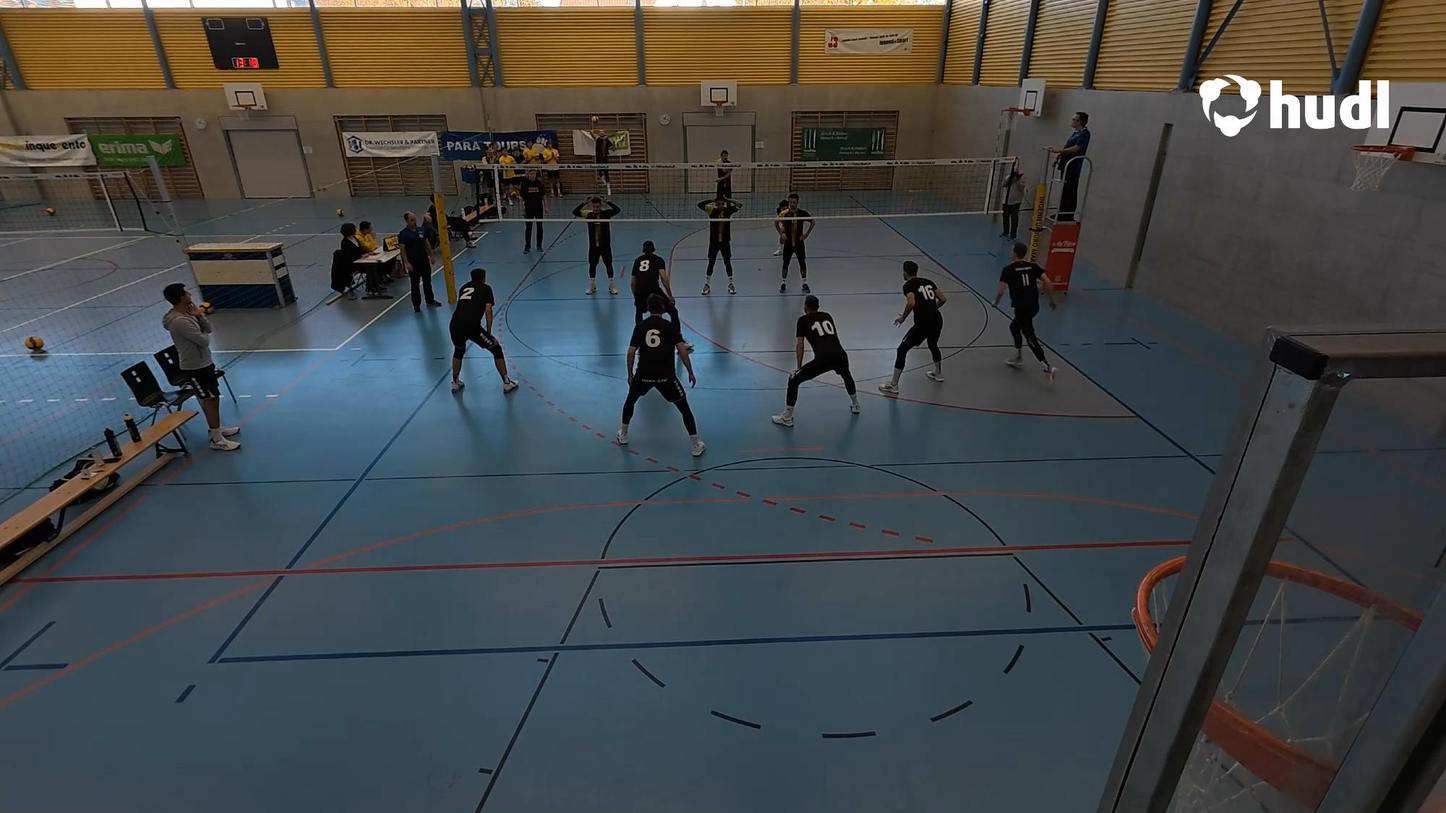Player: (614, 289, 708, 455), (773, 296, 860, 426), (449, 271, 518, 394), (994, 243, 1054, 380), (884, 264, 947, 393), (575, 195, 619, 296), (696, 192, 738, 297), (630, 238, 680, 325), (771, 197, 811, 294), (711, 148, 737, 199)
Serve: (587, 110, 617, 195)
ball: (589, 115, 601, 126)
